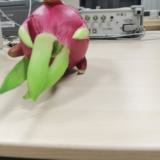pitaya: (16, 3, 89, 88)
